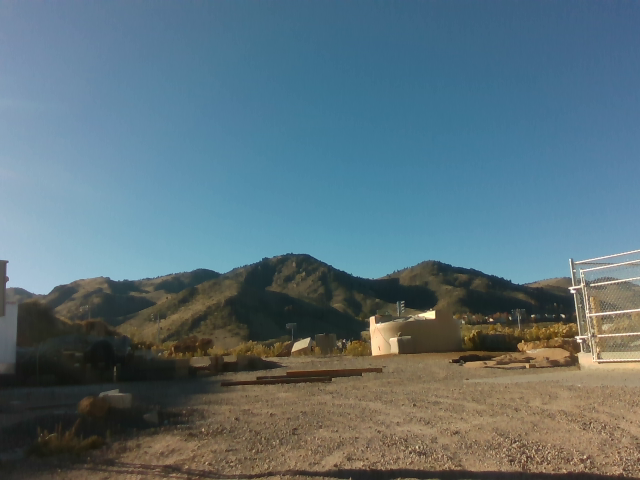Dunnage: (212, 362, 390, 391)
